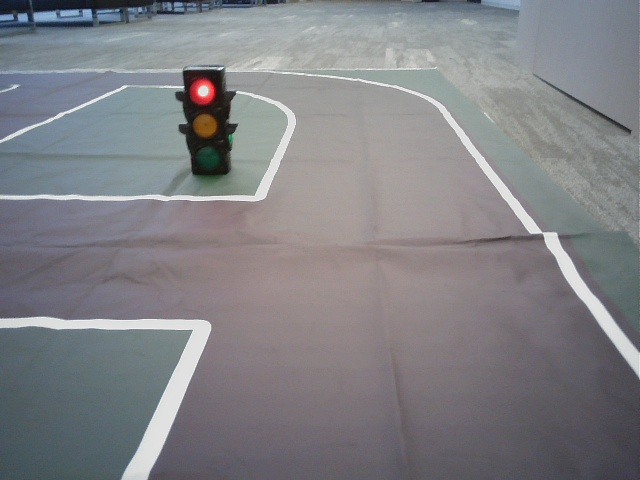red: (183, 73, 224, 170)
